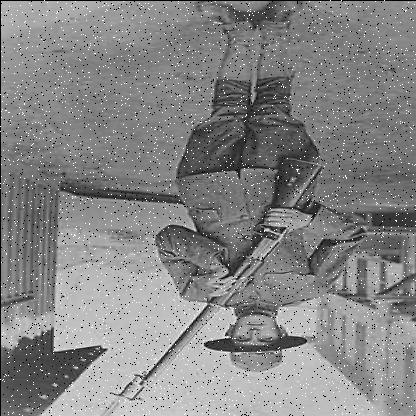rifle: (87, 144, 343, 409)
